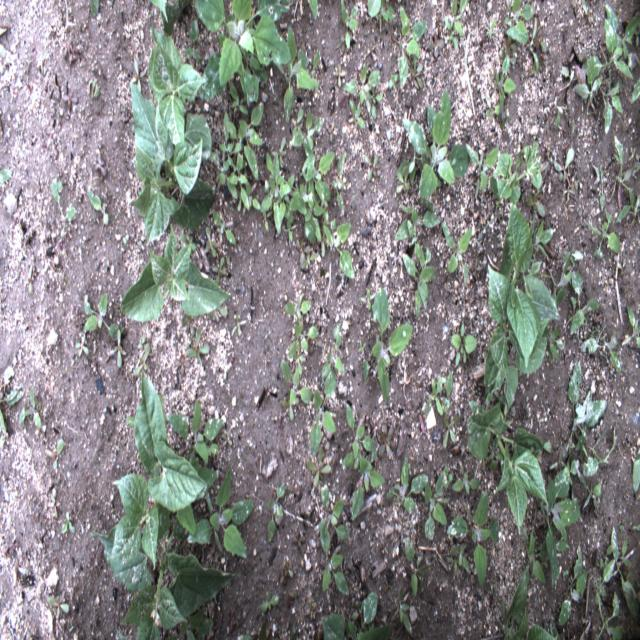crop: (87, 376, 242, 636), (128, 20, 219, 240), (480, 203, 567, 398), (463, 393, 555, 527), (117, 225, 235, 325), (190, 0, 294, 101), (399, 85, 470, 197), (498, 561, 566, 638), (492, 138, 544, 206)
weed: (561, 353, 620, 512), (360, 277, 419, 409), (213, 96, 271, 220), (182, 468, 255, 561), (559, 57, 626, 143), (307, 321, 348, 461), (446, 488, 501, 590), (549, 250, 607, 344), (535, 470, 580, 591), (341, 394, 383, 518), (280, 20, 330, 123), (258, 132, 300, 246), (162, 396, 229, 464), (592, 520, 637, 621), (316, 484, 353, 600), (280, 324, 320, 429), (79, 288, 127, 371), (600, 2, 638, 104), (316, 591, 393, 639), (388, 3, 428, 94), (501, 0, 548, 74), (296, 148, 332, 244), (481, 52, 517, 137), (577, 320, 627, 380), (554, 538, 588, 626), (425, 372, 460, 457), (170, 320, 209, 395), (343, 61, 384, 131), (386, 457, 431, 520), (398, 237, 434, 315), (48, 170, 82, 246), (610, 132, 637, 222), (422, 463, 451, 546), (391, 197, 443, 243), (541, 143, 579, 203), (464, 140, 500, 202), (397, 533, 430, 600), (322, 220, 356, 283), (0, 362, 25, 445), (586, 204, 622, 261), (443, 228, 477, 286), (42, 57, 77, 113), (447, 316, 483, 370), (284, 105, 320, 156), (525, 192, 555, 251), (263, 480, 288, 550), (283, 289, 317, 340), (328, 141, 350, 215), (201, 227, 233, 277), (0, 537, 28, 592), (304, 447, 337, 490), (60, 19, 90, 66), (44, 582, 72, 631), (16, 381, 41, 434), (148, 0, 188, 33), (443, 4, 472, 49), (523, 524, 546, 579), (335, 3, 359, 55), (594, 595, 624, 636), (133, 330, 154, 388), (85, 187, 113, 230), (452, 457, 480, 499), (472, 18, 498, 62), (294, 236, 324, 274), (210, 206, 237, 247), (388, 594, 414, 636), (377, 419, 401, 463), (226, 78, 256, 113), (44, 436, 66, 480), (362, 144, 385, 185), (548, 90, 569, 132), (184, 19, 202, 65), (592, 153, 607, 208), (364, 2, 392, 31), (258, 583, 280, 619), (329, 60, 354, 91), (58, 507, 82, 538), (624, 302, 638, 355), (278, 554, 298, 591), (426, 26, 446, 63), (85, 73, 103, 109), (91, 146, 108, 182), (43, 490, 61, 522), (396, 168, 418, 194), (229, 312, 251, 337), (302, 0, 322, 22), (119, 231, 136, 256), (630, 454, 640, 494), (0, 164, 14, 192), (327, 116, 340, 145), (580, 0, 594, 26), (74, 336, 88, 361), (86, 0, 105, 16), (631, 520, 638, 540)
